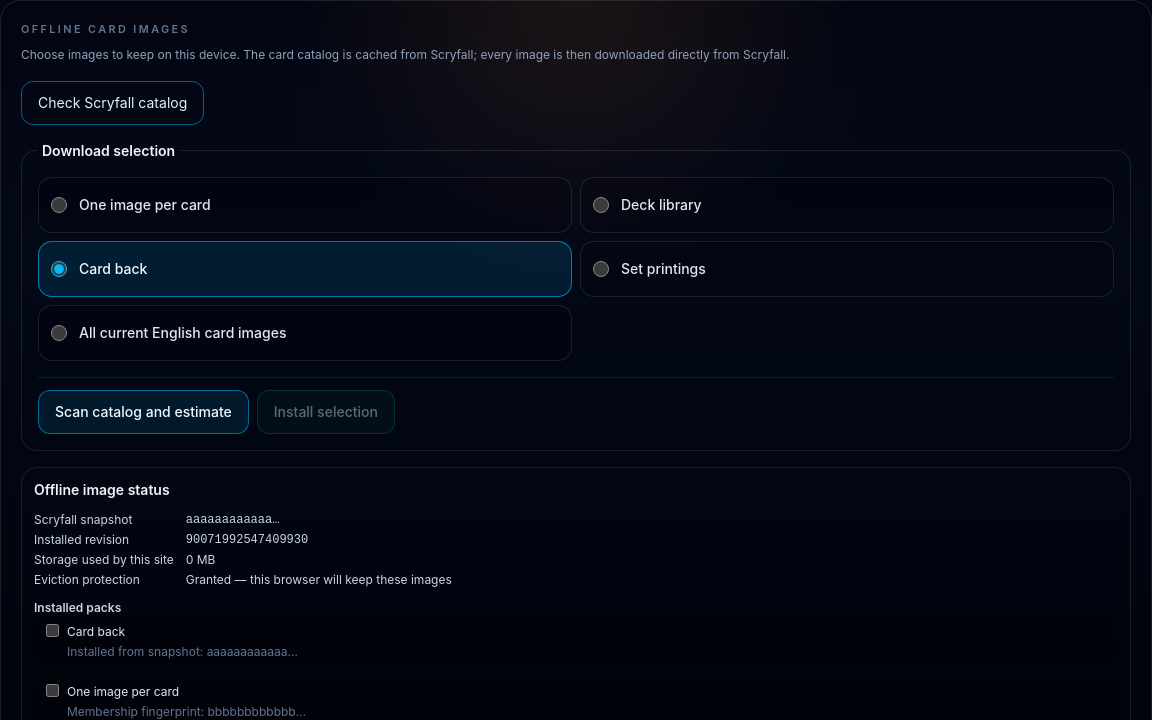
Test case: VisualPackManager initialization › re-reads drift once the user's own action has loaded the card data
Expected: the heading "Offline card images" is shown, 21,22 -> 190,36
Click the radio button labelled "One image per card": (59,205) 51,197 -> 67,213
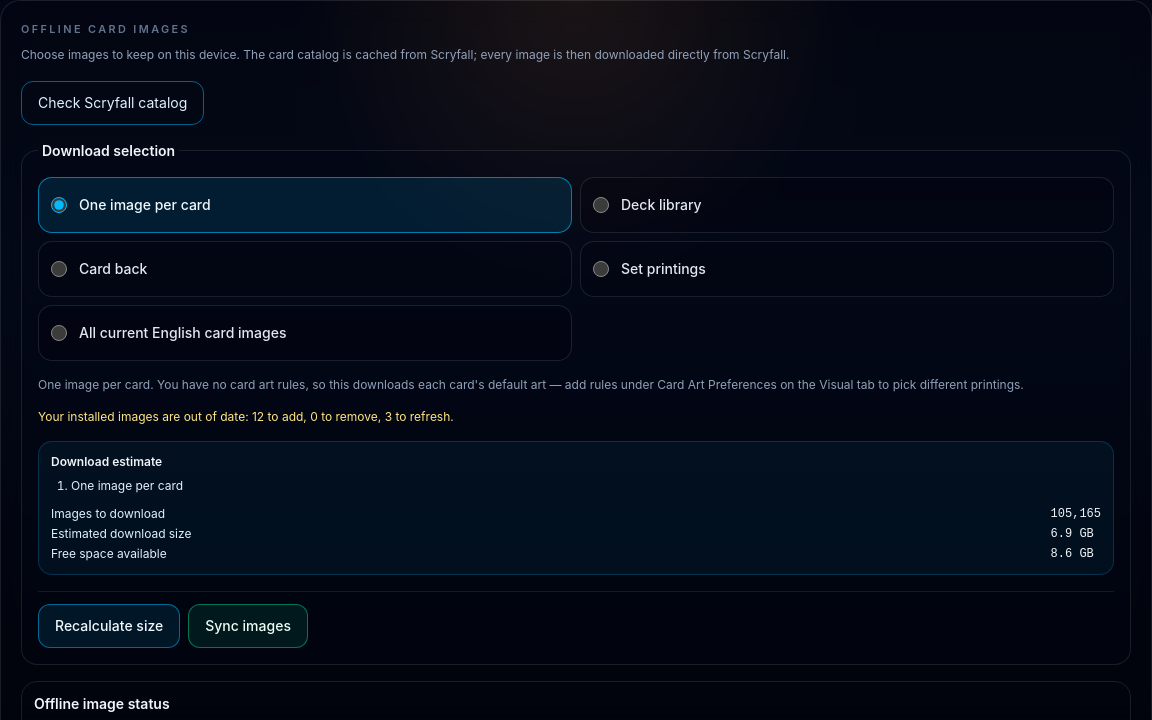
Expected: the text "12 to add, 0 to remove, 3 to refresh" is shown, 38,409 -> 454,424
